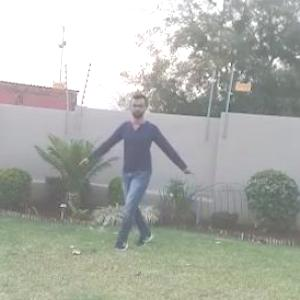land: (90, 101, 196, 241)
